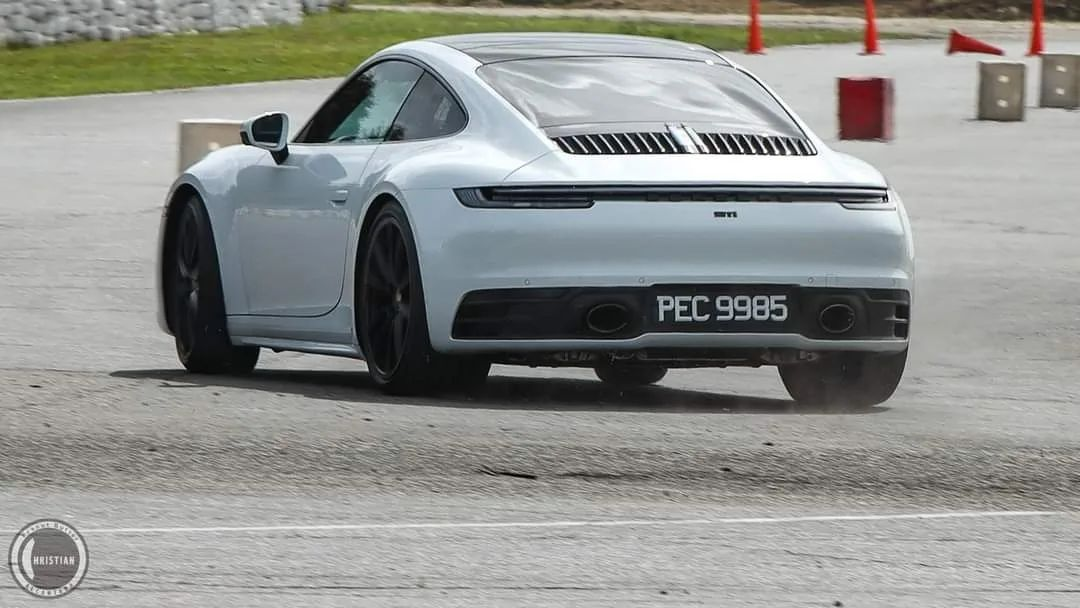License-Plate: (653, 291, 789, 325)
